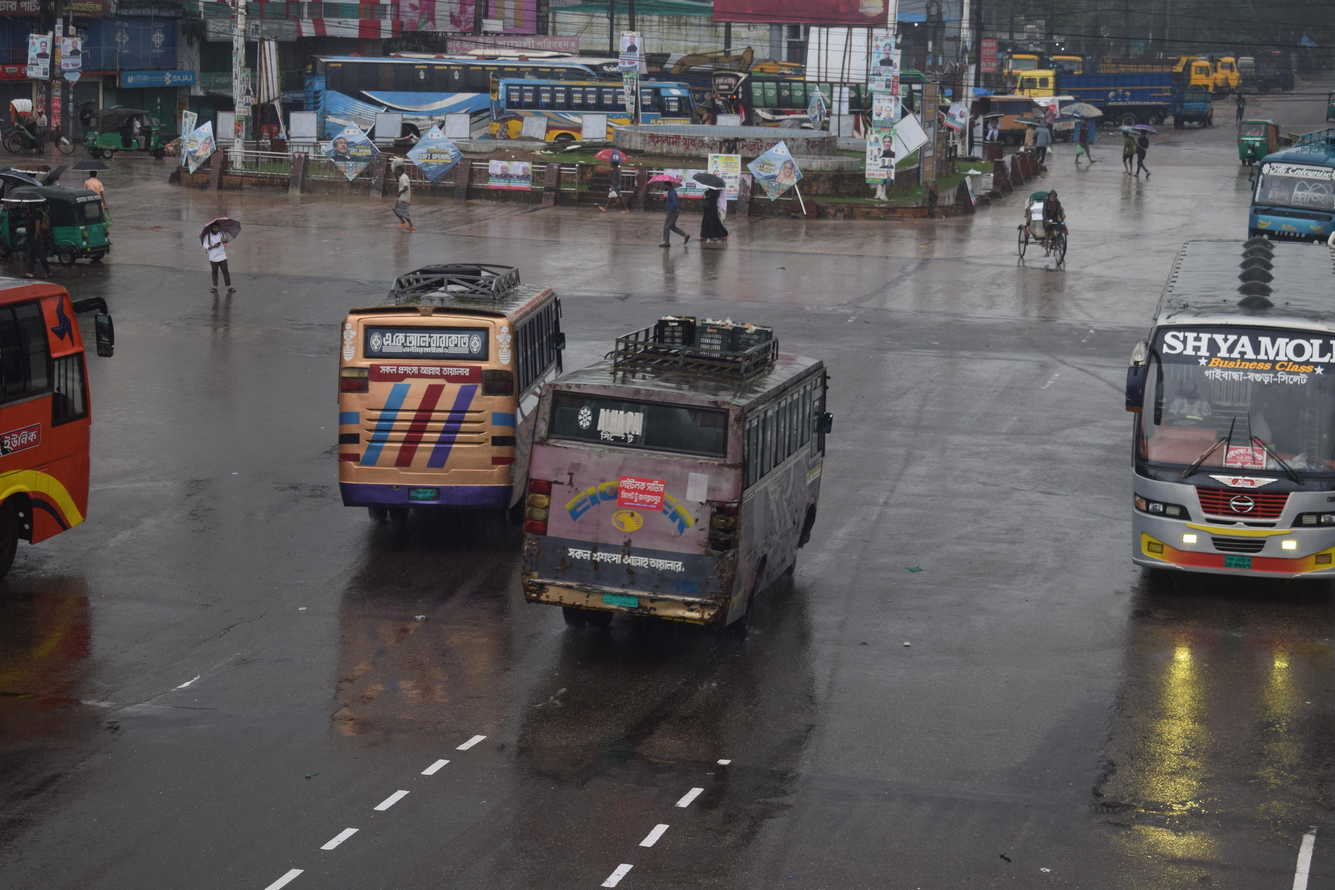Bus: (491, 293, 878, 686), (1089, 210, 1335, 615), (313, 236, 597, 552), (291, 33, 622, 195), (0, 253, 154, 577), (471, 54, 732, 208), (693, 56, 908, 206), (1217, 119, 1335, 270)
Car: (986, 179, 1094, 291), (0, 86, 85, 166)
Truck: (1001, 42, 1197, 134), (1183, 53, 1222, 100), (1213, 54, 1242, 103)
